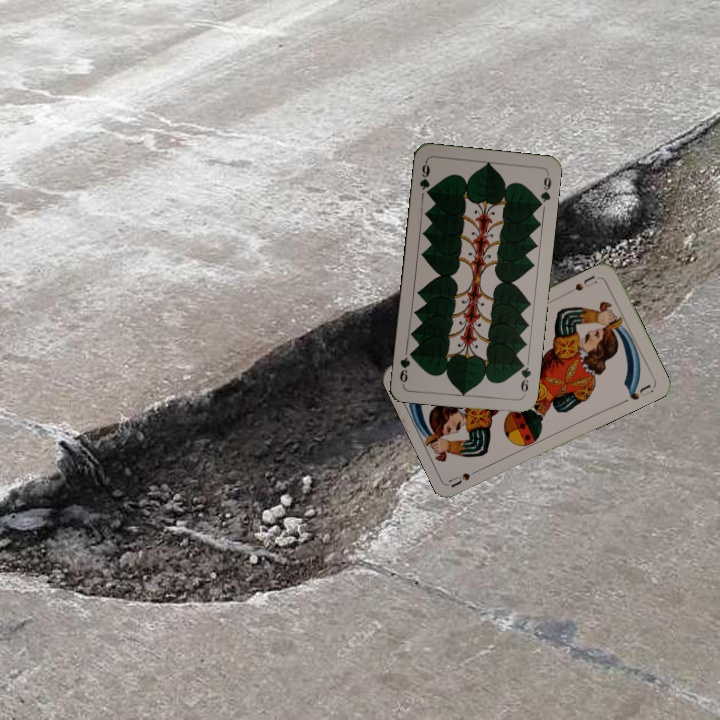G9: (415, 158, 434, 199), (516, 357, 533, 394)
SU: (446, 464, 485, 489), (565, 271, 603, 296)
